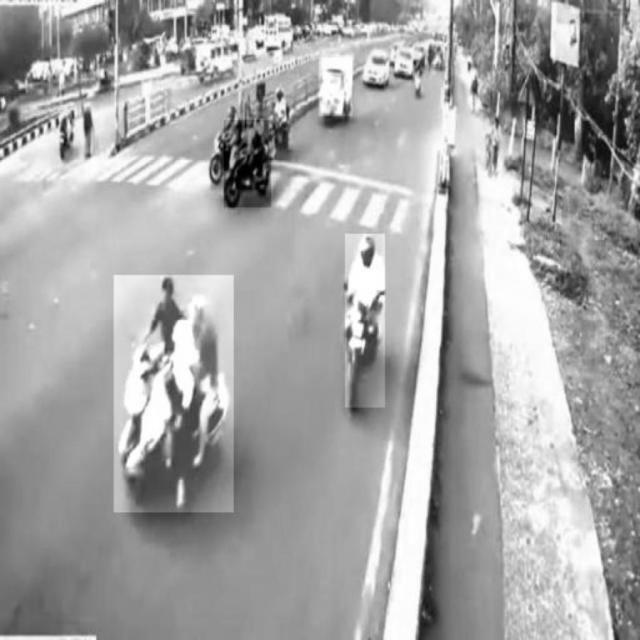accident: (114, 275, 234, 513)
vehicle: (345, 234, 385, 408), (224, 120, 271, 208), (319, 58, 353, 116)
